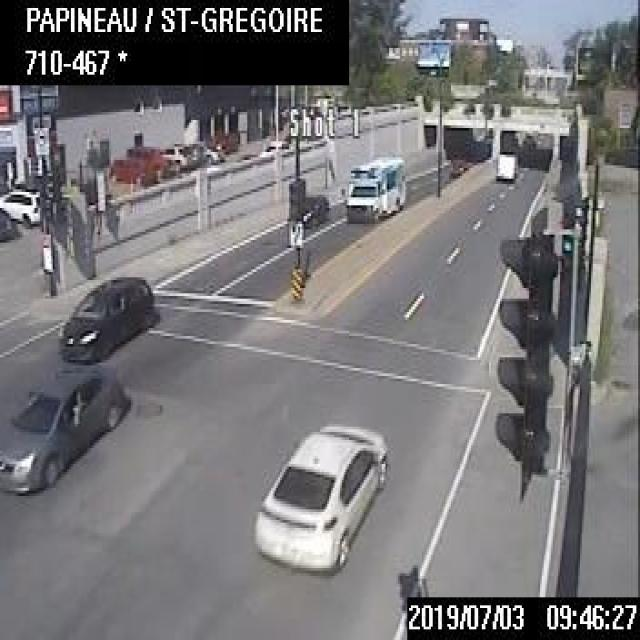bus: (344, 152, 404, 221)
vehicle: (251, 419, 389, 568), (0, 368, 120, 491), (56, 272, 154, 360), (0, 185, 40, 228), (126, 142, 172, 177), (108, 154, 157, 186), (156, 143, 190, 169), (300, 192, 327, 221), (493, 144, 516, 176), (259, 137, 289, 157), (198, 142, 224, 162), (188, 143, 200, 168)
